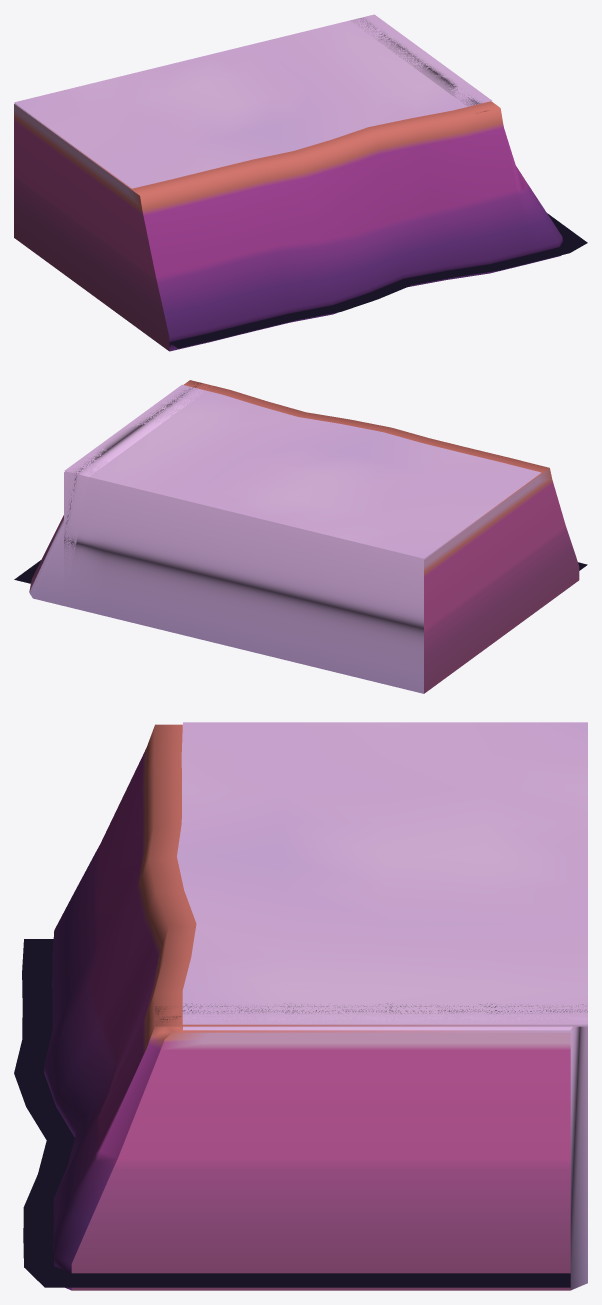
The model's file is ledge_glitter_end_e.glb.
3 views of the same model, one above another, from view 1: azimuth 30°, elevation 25°; view 2: azimuth 150°, elevation 25°; view 3: azimuth 270°, elevation 25° (orthographic). The views are drawn at different scales.
Visible parts, largest first — view 1: Ledge.001; view 2: Ledge.001; view 3: Ledge.001.
Part boxes in pixels (x1=…): Ledge.001: x1=14, y1=14, x2=587, y2=351; Ledge.001: x1=14, y1=380, x2=587, y2=693; Ledge.001: x1=14, y1=722, x2=587, y2=1290.
Bounding box in the file's own units: 1.04 × 0.323 × 0.7226.
